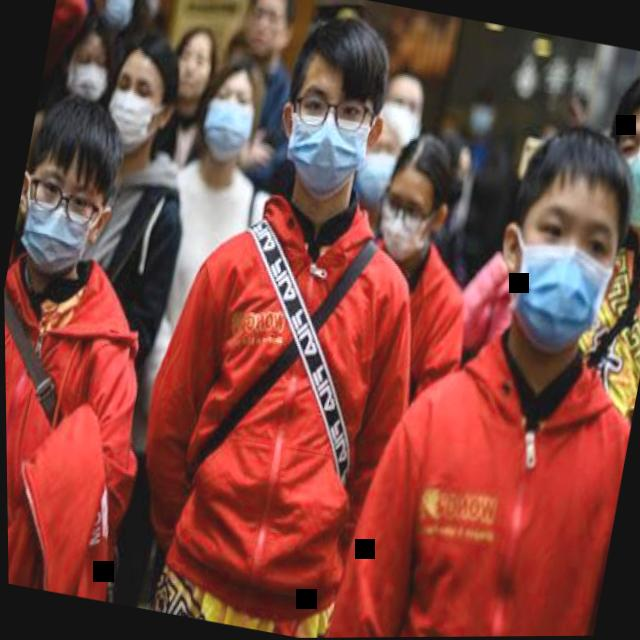Mask: (476, 133, 640, 359), (260, 10, 402, 215), (6, 96, 136, 283), (366, 129, 469, 268), (97, 30, 193, 159), (343, 101, 426, 219), (190, 57, 271, 171), (590, 63, 640, 236), (62, 4, 126, 112), (372, 63, 435, 156), (87, 0, 149, 34)
NO-Mask: (163, 16, 229, 113), (237, 0, 304, 69)
